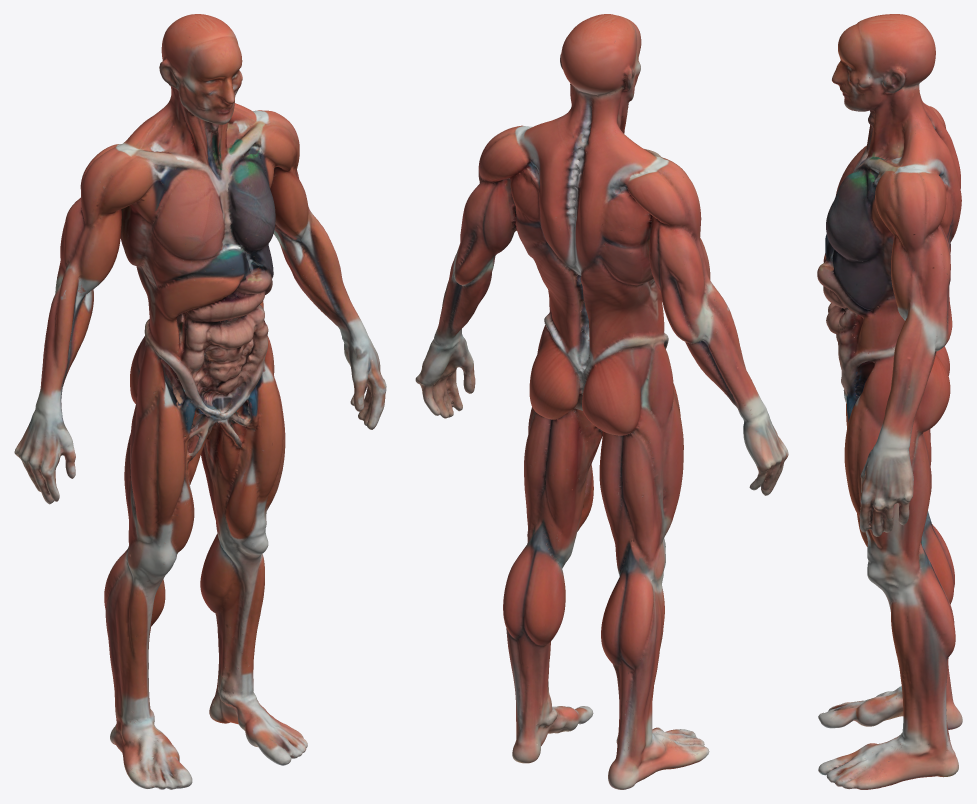
The model's file is fullbody.glb.
The picture shows the model from 3 angles, left to right: view 1: azimuth 30°, elevation 25°; view 2: azimuth 150°, elevation 25°; view 3: azimuth 270°, elevation 25°; orthographic projection.
Bounding box in the file's own units: 1.02 × 2 × 0.3604.
1 material, 1 textured.
